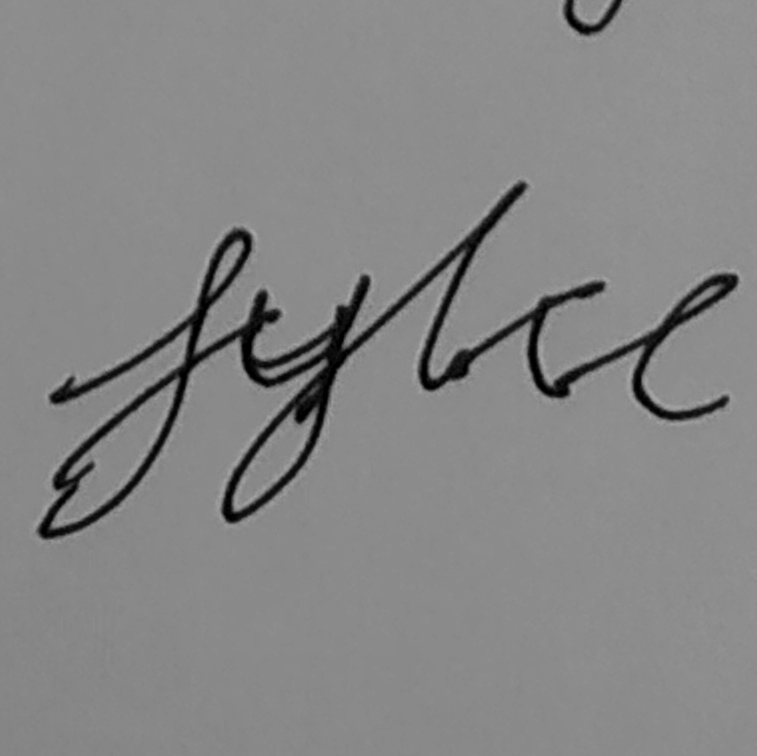e: (626, 268, 743, 428)
f: (29, 222, 258, 546)
k: (412, 178, 607, 404)
y: (218, 269, 374, 530)
